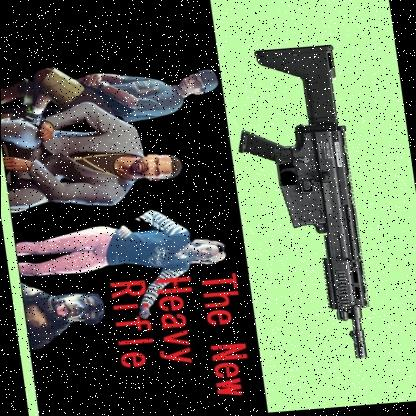rifle: (226, 37, 386, 370)
